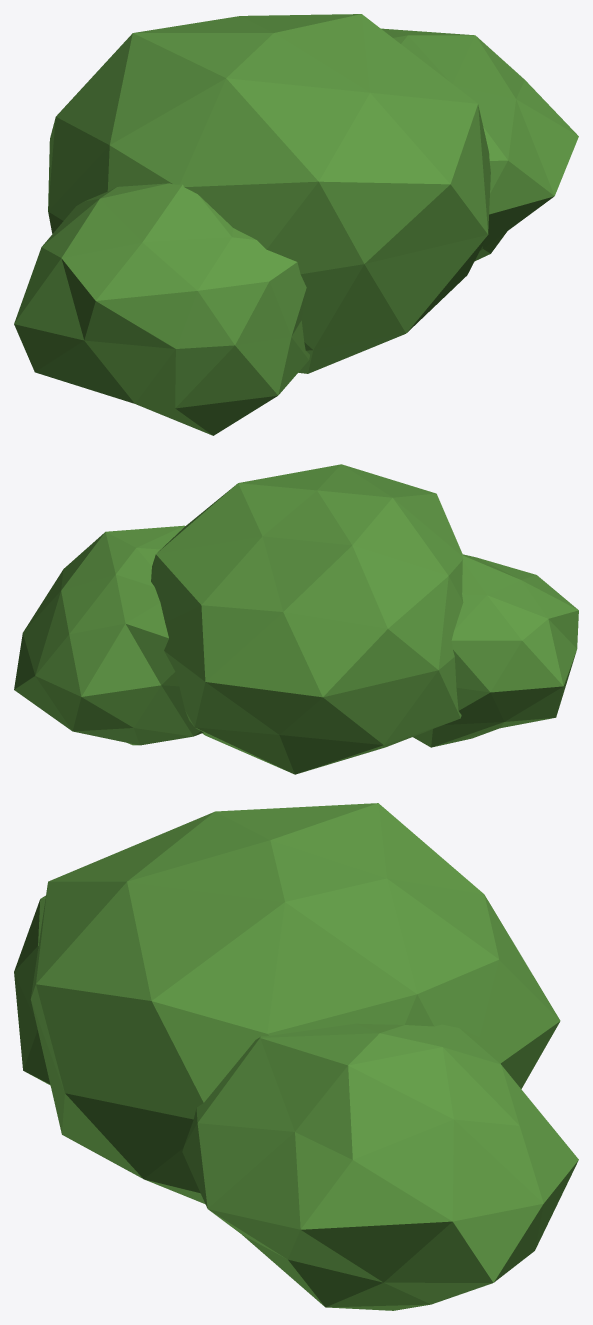
Rendered from bush_cube.glb.
3 renders of one model, top to bottom at view 1: azimuth 30°, elevation 25°; view 2: azimuth 150°, elevation 25°; view 3: azimuth 270°, elevation 25°, orthographic. The views are drawn at different scales.
Visible parts, largest first — view 1: Icosphere; view 2: Icosphere; view 3: Icosphere.
Boxes of the visible parts, box(x1,y1,x2,y2) form: Icosphere: box(14, 14, 578, 435); Icosphere: box(14, 464, 578, 774); Icosphere: box(14, 803, 578, 1310).
Bounding box in the file's own units: 0.8648 × 0.4501 × 0.6207.
